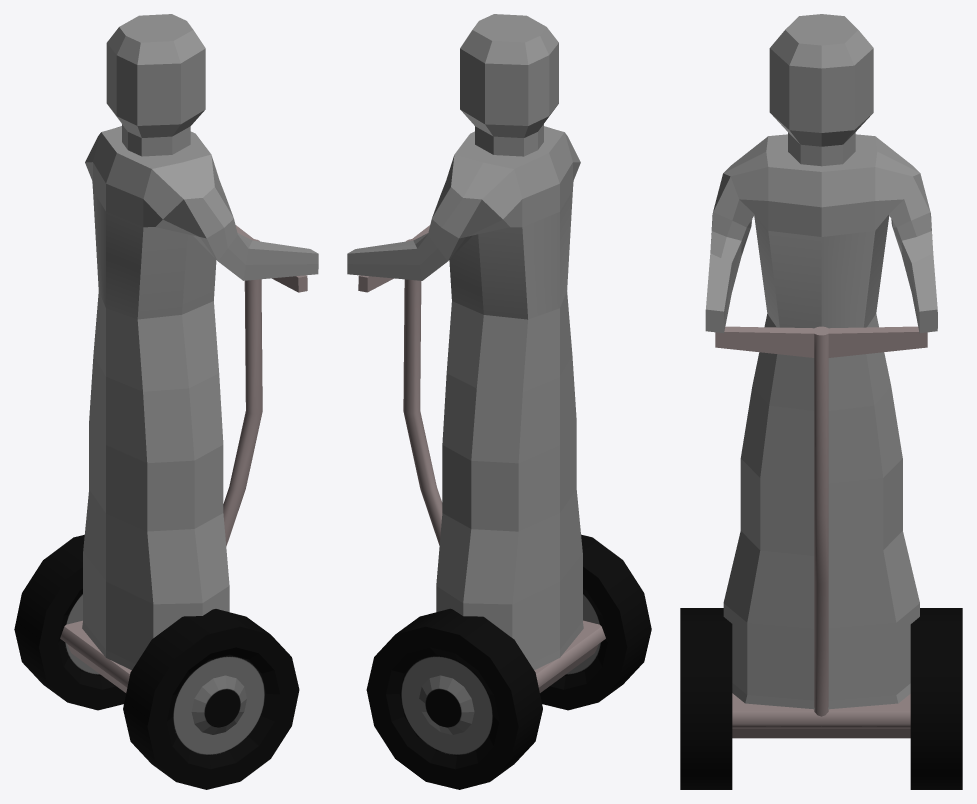
Rendered from FemaleMesh_Segway.FBX.
3 views of the same model, side by side, from view 1: azimuth 30°, elevation 25°; view 2: azimuth 150°, elevation 25°; view 3: azimuth 270°, elevation 25° (orthographic). The views are drawn at different scales.
Parts seen in each view (by area): view 1: VirginMesh, Segway001; view 2: VirginMesh, Segway001; view 3: VirginMesh, Segway001.
Boxes of the visible parts, box(x1,y1,x2,y2) form: VirginMesh: box(82, 14, 318, 670); Segway001: box(14, 225, 307, 789); VirginMesh: box(347, 14, 583, 670); Segway001: box(358, 225, 651, 789); VirginMesh: box(705, 14, 937, 709); Segway001: box(680, 326, 962, 789).
Bounding box in the file's own units: 26.9 × 99.28 × 33.79.
